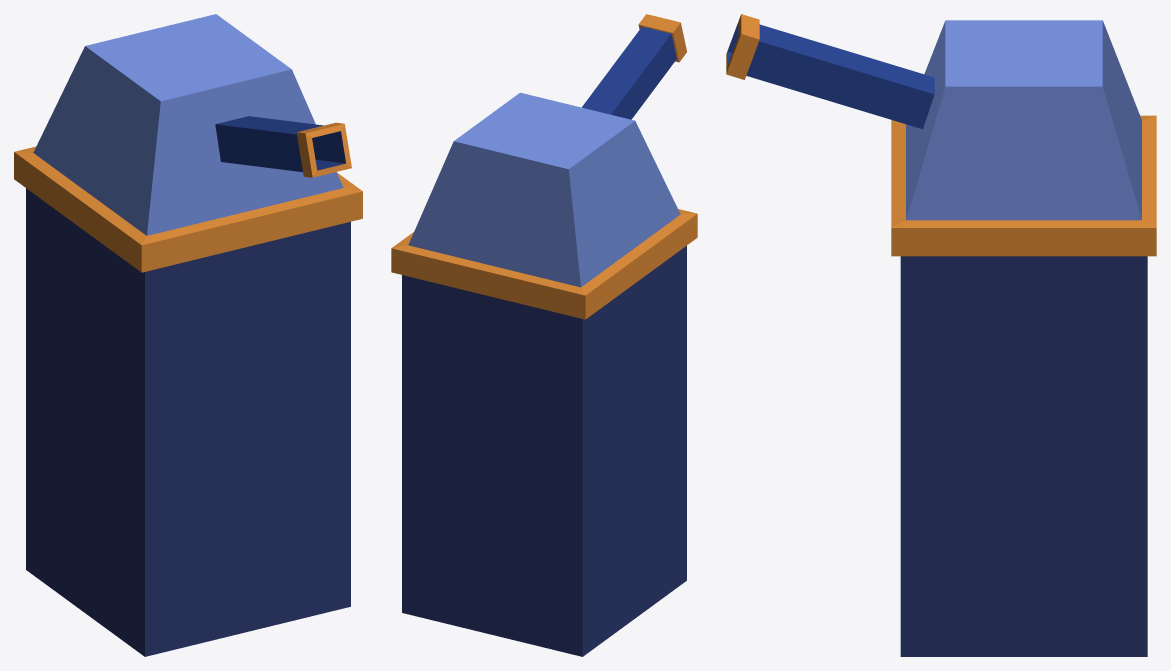
File: GunTower.fbx
3 views of the same model, side by side, from view 1: azimuth 30°, elevation 25°; view 2: azimuth 150°, elevation 25°; view 3: azimuth 270°, elevation 25° (orthographic). The views are drawn at different scales.
Visible parts, largest first — view 1: GunTowerTurretBase, GunTowerTurret; view 2: GunTowerTurretBase, GunTowerTurret; view 3: GunTowerTurretBase, GunTowerTurret.
Part boxes in pixels (x1,y1,x2,y2): GunTowerTurretBase: (26, 188, 350, 656); GunTowerTurret: (14, 14, 362, 272); GunTowerTurretBase: (402, 245, 686, 656); GunTowerTurret: (391, 14, 697, 319); GunTowerTurretBase: (900, 256, 1147, 656); GunTowerTurret: (726, 14, 1156, 256).
Size of the model in its own units: 3.48 by 8.42 by 5.65.
